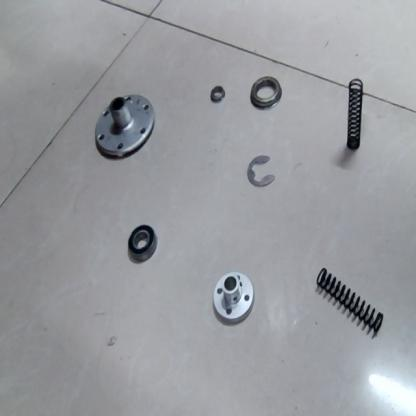FOD: (314, 262, 390, 340), (90, 90, 158, 160), (212, 272, 256, 329), (345, 75, 367, 151), (125, 223, 160, 266), (247, 74, 282, 111), (244, 151, 276, 191), (208, 85, 226, 107)
